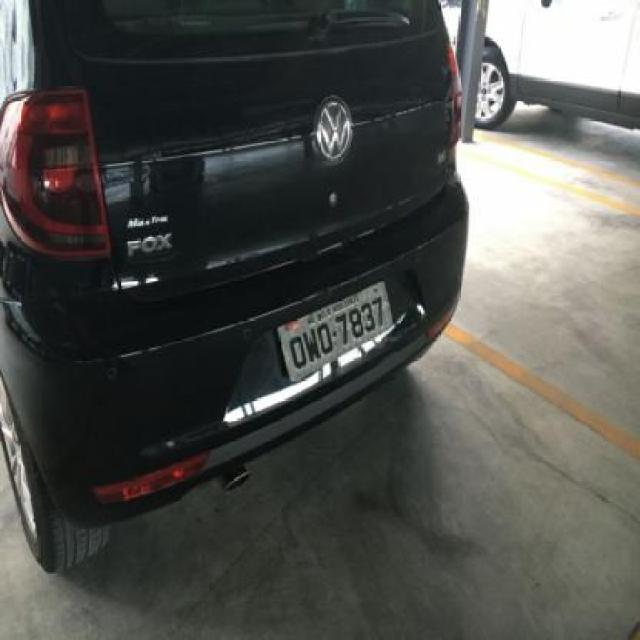old_plate: (273, 276, 401, 388)
